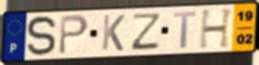H: (198, 7, 236, 51)
K: (100, 14, 127, 53)
P: (57, 13, 90, 56)
S: (25, 14, 58, 58)
T: (173, 10, 198, 50)
Z: (129, 12, 164, 52)
